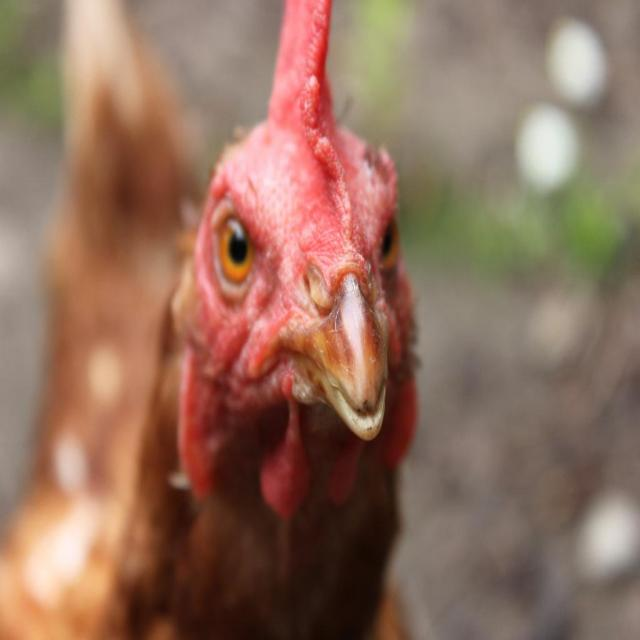Chicken: (0, 0, 425, 640)
